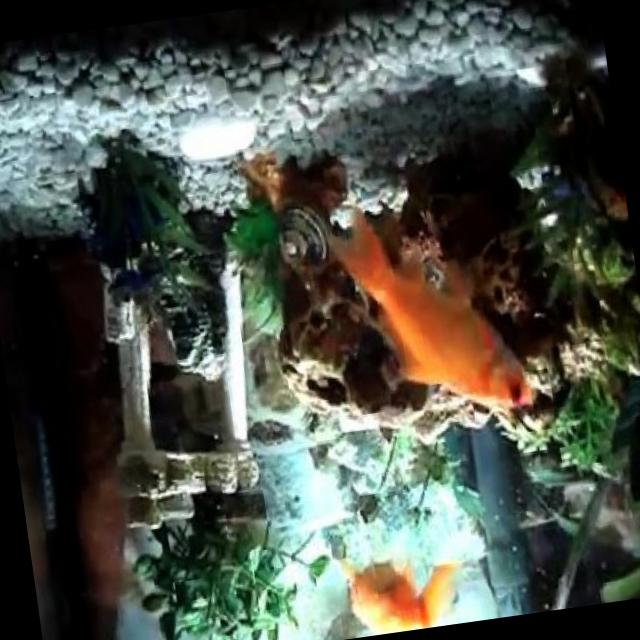GoldFish: (327, 191, 541, 451)
